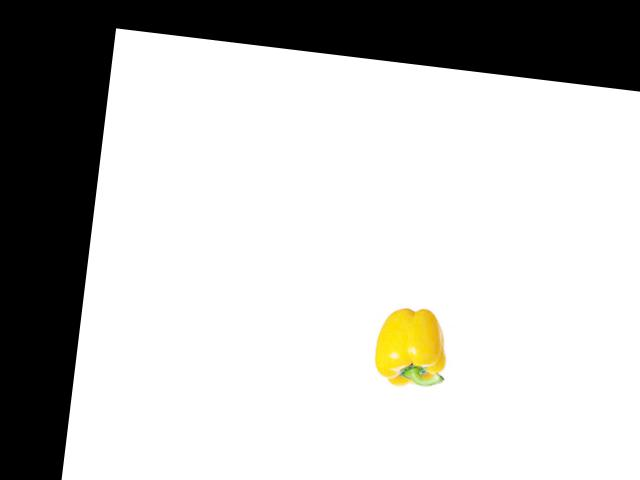bell_pepper: (364, 299, 460, 399)
